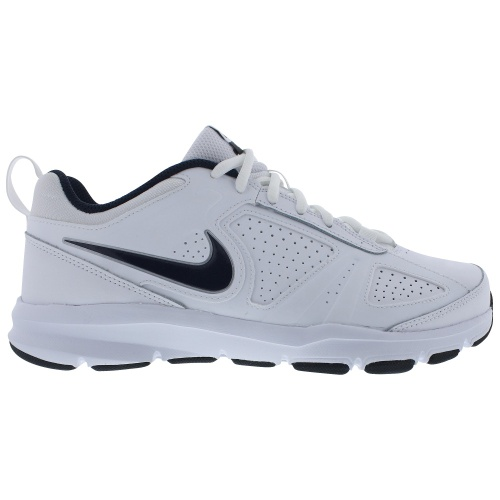nike: (55, 225, 237, 300)
